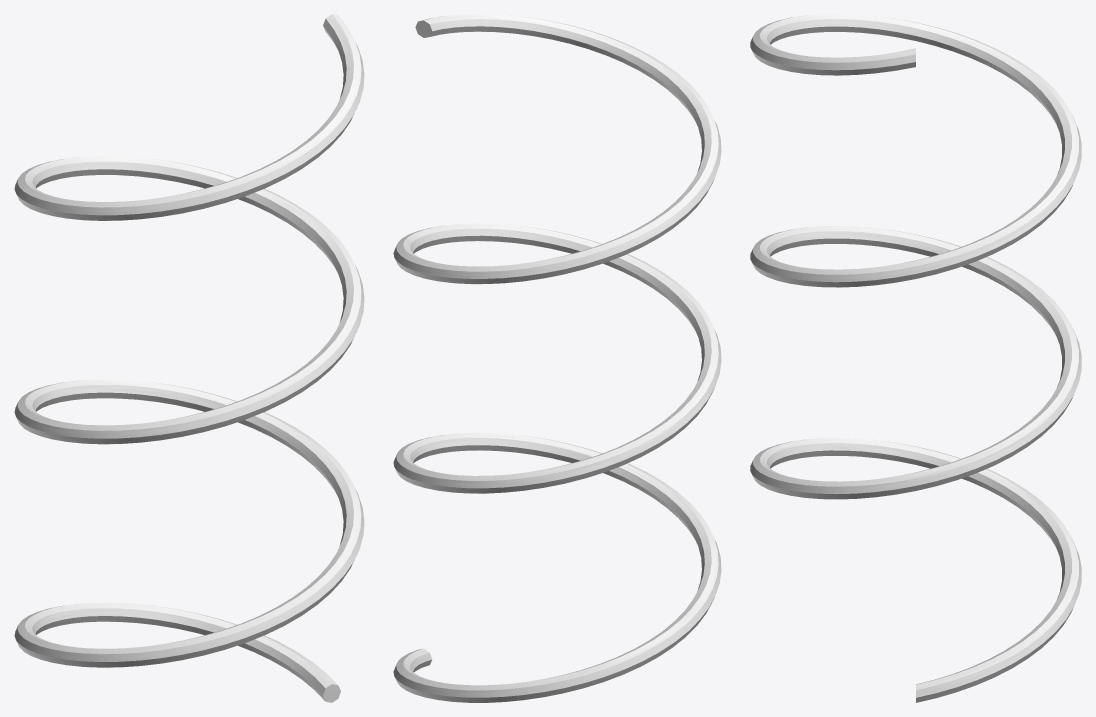
The model's file is whitehel.obj.
3 renders of one model, left to right at view 1: azimuth 30°, elevation 25°; view 2: azimuth 150°, elevation 25°; view 3: azimuth 270°, elevation 25°, orthographic. The views are drawn at different scales.
Visible parts, largest first — view 1: pHelix1; view 2: pHelix1; view 3: pHelix1.
Boxes of the visible parts, x1,y1,x2,y2 form: pHelix1: (14, 14, 364, 702); pHelix1: (393, 14, 721, 702); pHelix1: (750, 14, 1081, 702).
Size of the model in its own units: 3.35 by 7.28 by 3.35.
1 material, 1 textured.
